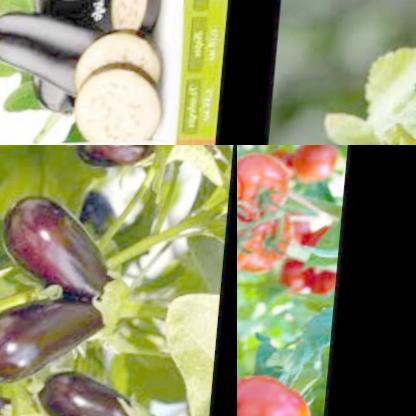eggplant: (71, 0, 186, 145), (12, 0, 124, 141), (0, 198, 128, 312), (0, 288, 144, 387), (0, 0, 118, 100), (44, 372, 170, 416), (62, 145, 189, 180)
tomato: (237, 155, 300, 221), (238, 217, 305, 277), (276, 254, 342, 305), (237, 377, 322, 416), (290, 145, 346, 189), (237, 216, 262, 287)
